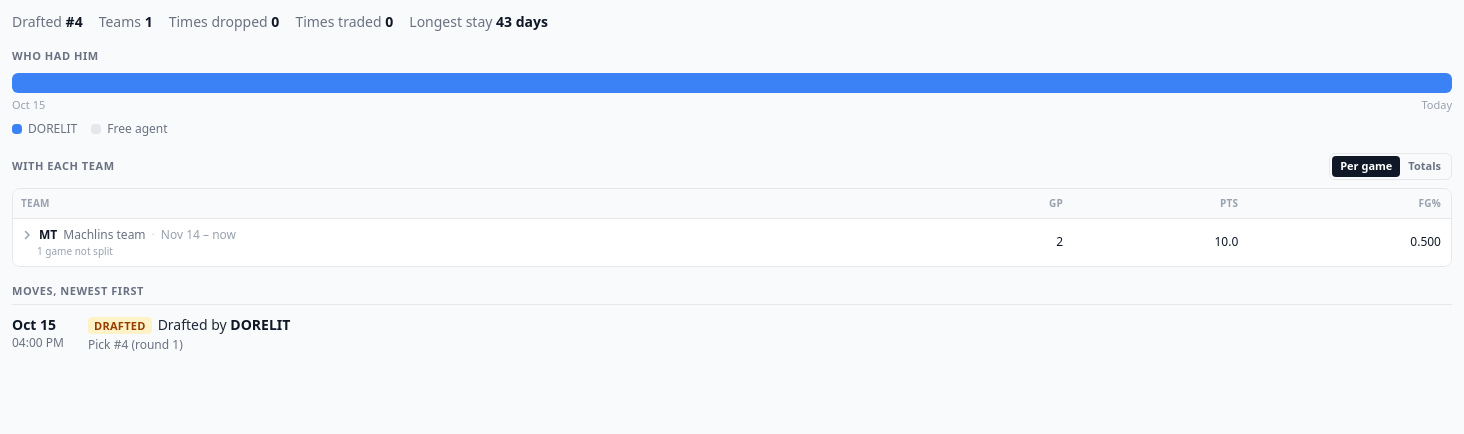
Scenario: fantasy team stat lines › shows each stretch above the moves, with started and bench
This screenshot has width=1464, height=434.
Expected: the text "Started" is not shown
Expected: the text "Bench" is not shown
Click the button "MT Machlins team · Nov 14 – now 1 game not split".
click(128, 242)  # box left=21, top=227, right=236, bottom=258
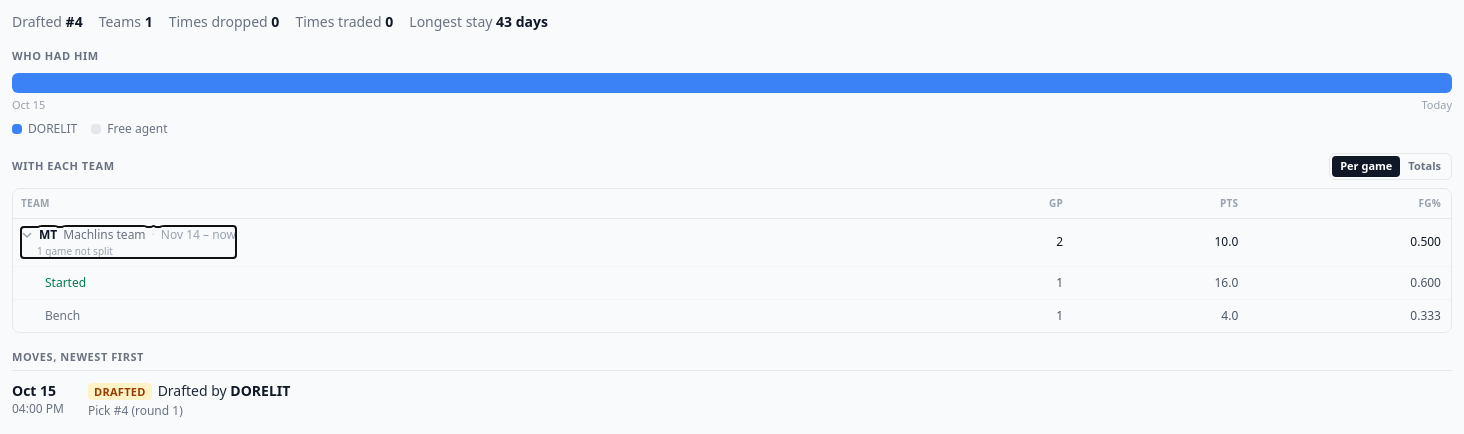
Now the column heading "Started" is shown, box left=13, top=266, right=937, bottom=299
Now the column heading "Bench" is shown, box left=13, top=299, right=937, bottom=332
Now the text "16.0" is shown, box left=1073, top=266, right=1248, bottom=299
Click the button "Totals".
click(1425, 166)  # box left=1400, top=156, right=1449, bottom=176
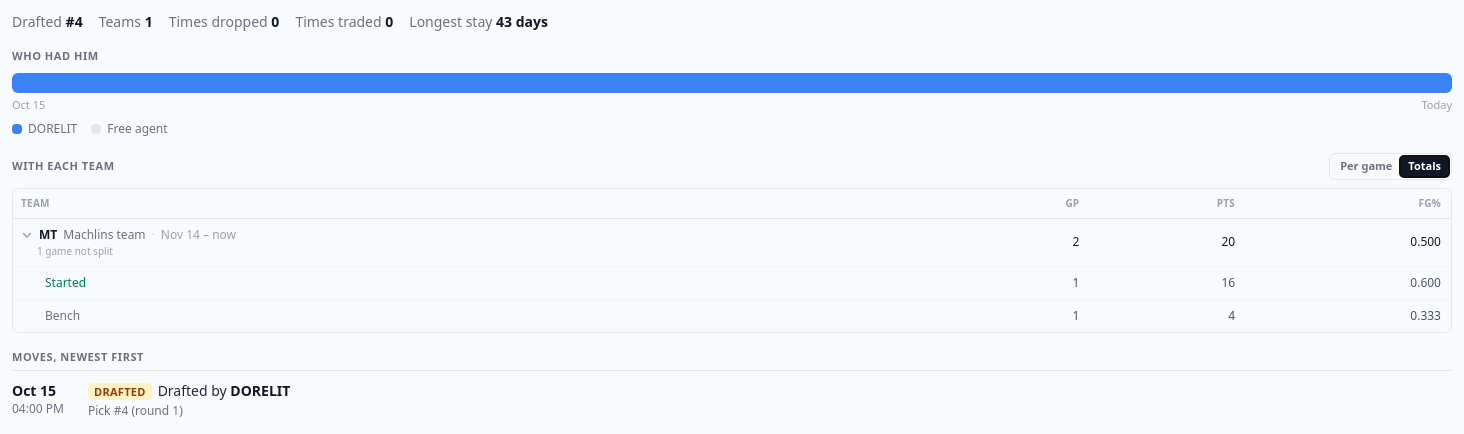
Expected: the text "20" is shown, left=1089, top=218, right=1245, bottom=266
Now the text "10.0" is gone
